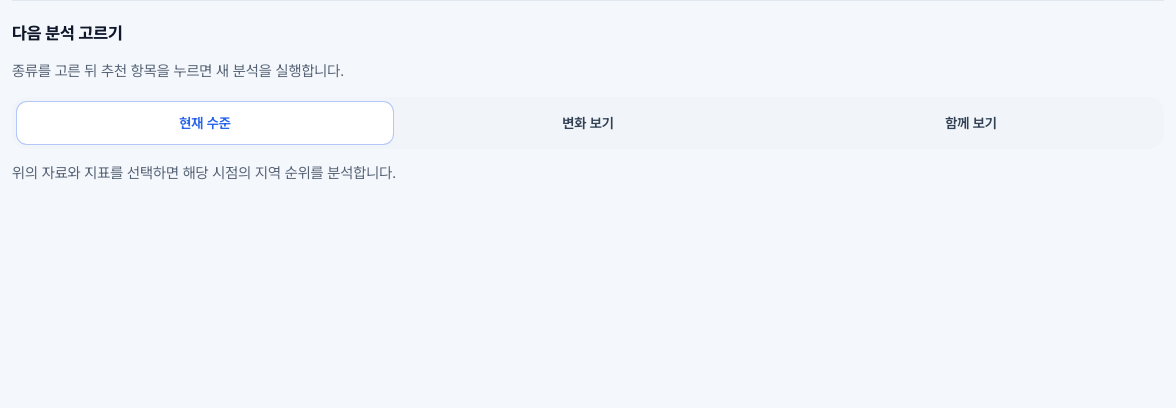
Scenario: AnalysisMethods › executes the exact trend query once per activation while preserving preset labels and IDs
The image size is (1176, 408).
Later steps or results of the test are not shown.
Click the button "변화 보기".
click(588, 123)  # box [399,101,777,145]
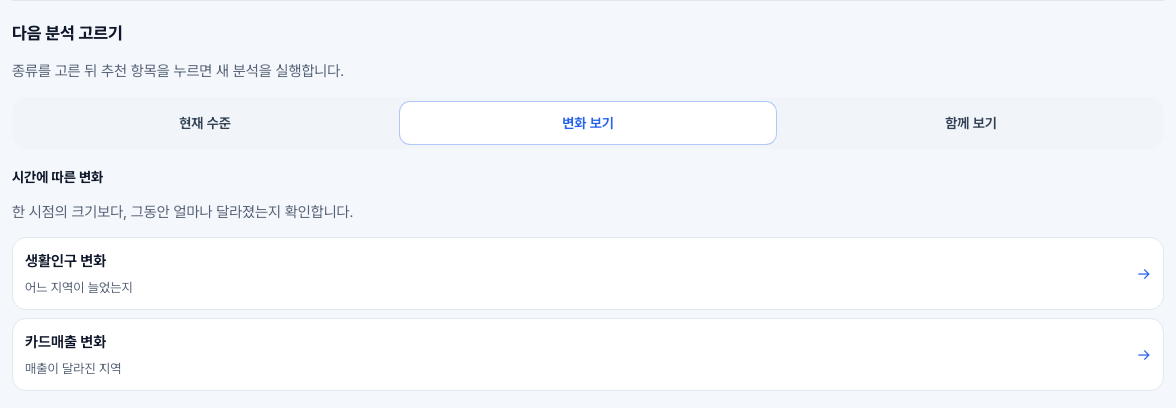
Expected: the button with test id "trend-sales-growth" shows "매출이 달라진 지역", [12,318,1164,391]
